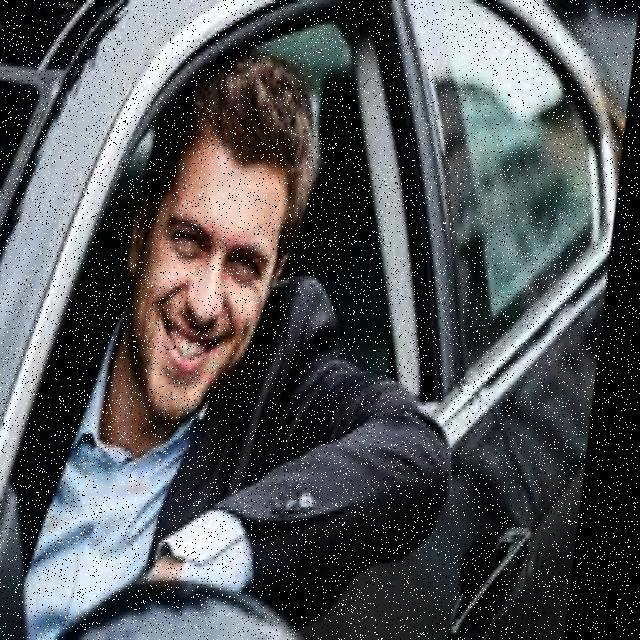noSeatbelt: (32, 280, 306, 604)
